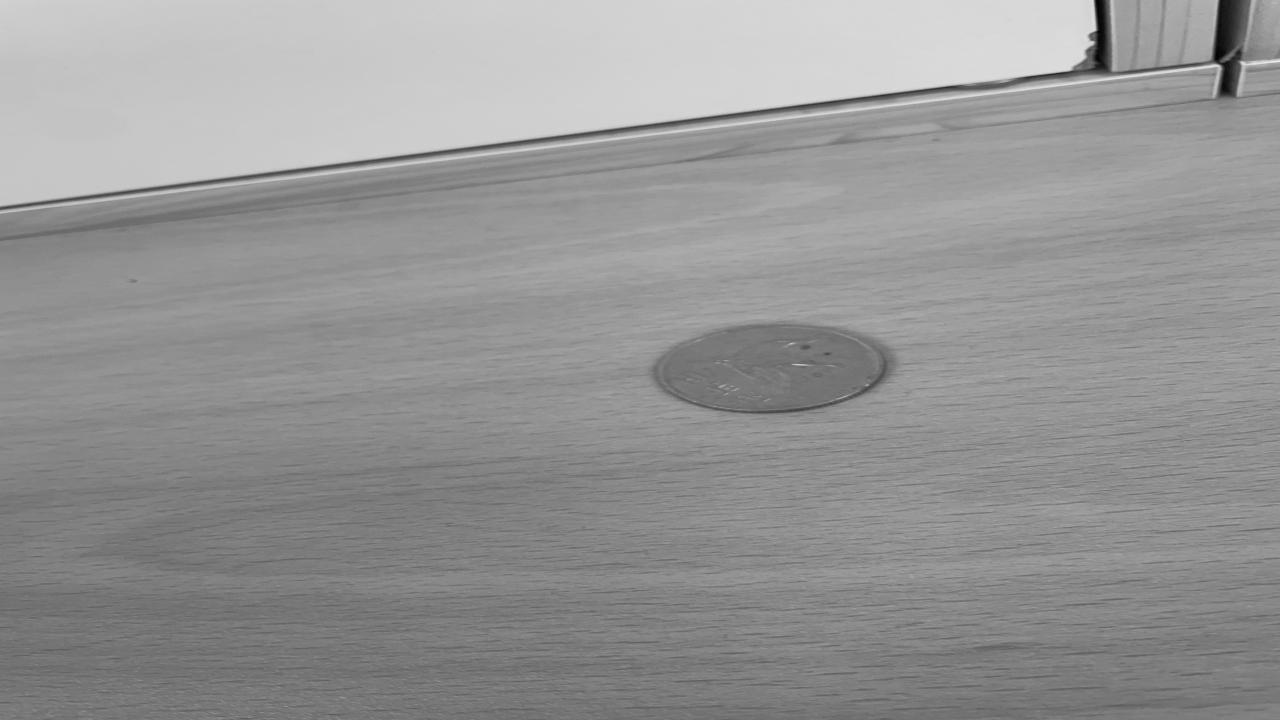coin: (651, 322, 891, 413)
